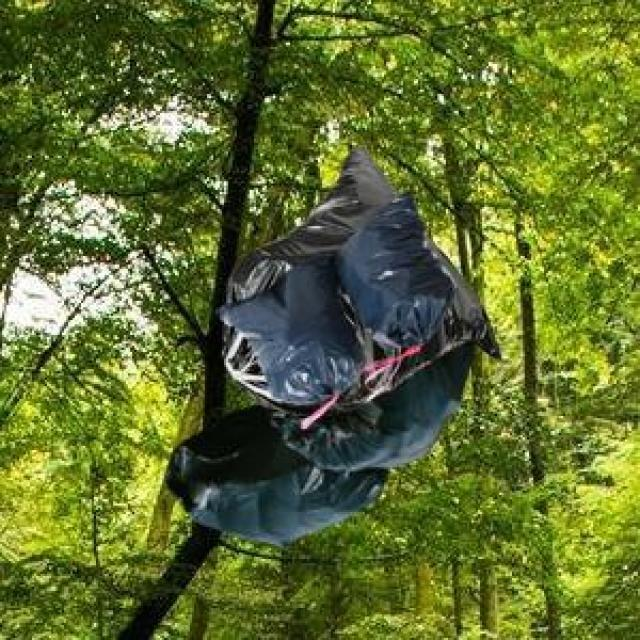waste: (166, 150, 500, 544)
